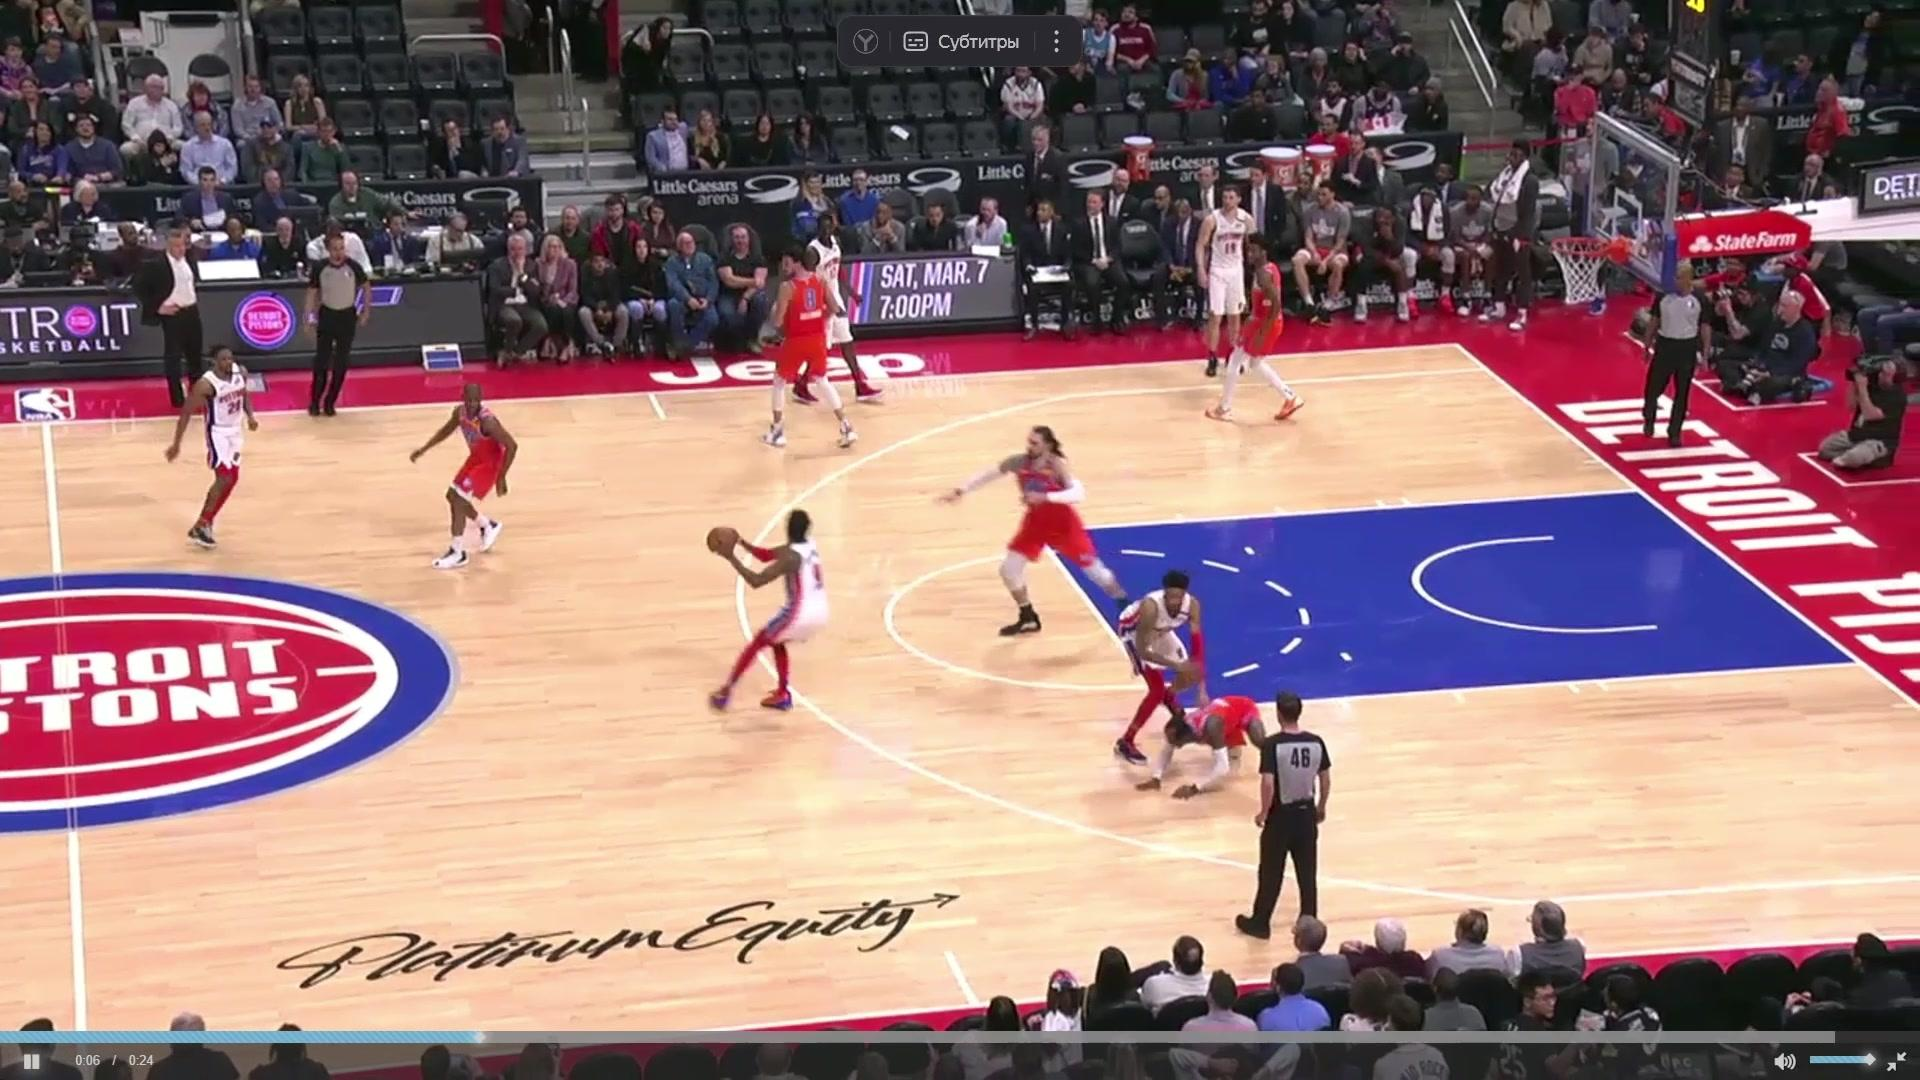foul: (1106, 551, 1274, 790)
